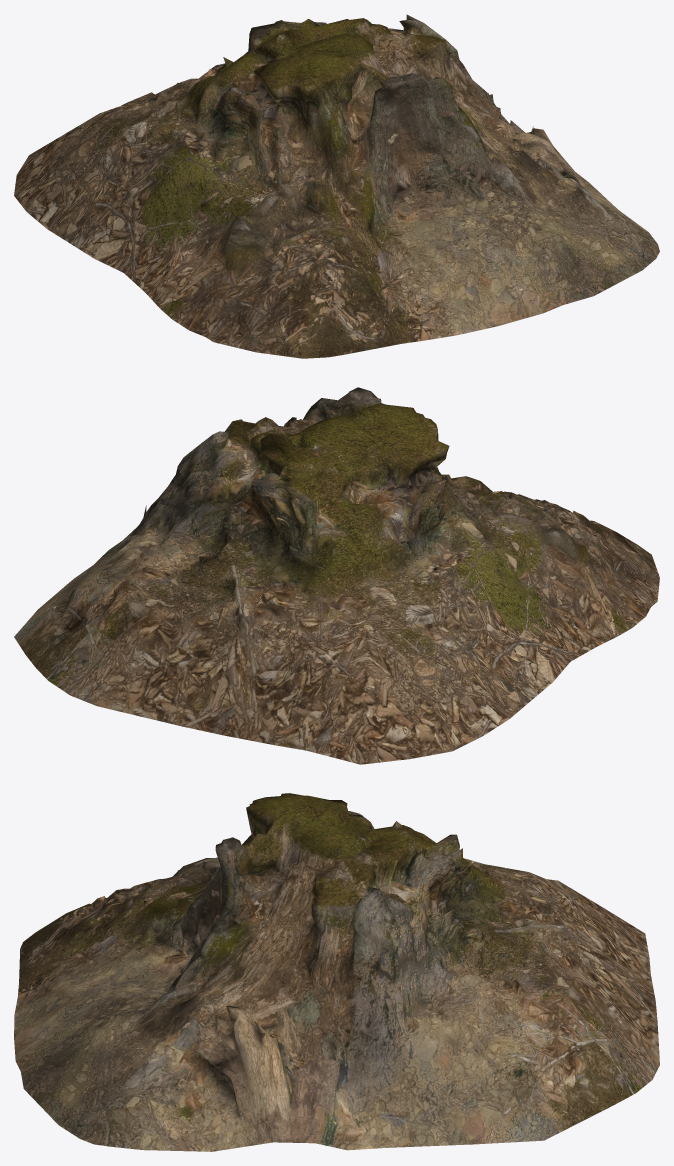
File: tree_stump_01_1k.gltf
3 views of the same model, one above another, from view 1: azimuth 30°, elevation 25°; view 2: azimuth 150°, elevation 25°; view 3: azimuth 270°, elevation 25° (orthographic). The views are drawn at different scales.
Visible parts, largest first — view 1: tree_stump_01; view 2: tree_stump_01; view 3: tree_stump_01.
Boxes of the visible parts, left/top/right/bottom form: tree_stump_01: left=14, top=14, right=659, bottom=358; tree_stump_01: left=14, top=387, right=659, bottom=764; tree_stump_01: left=14, top=793, right=659, bottom=1151.
Bounding box in the file's own units: 1.43 × 0.571 × 1.59.
Materials: 1 (1 with a texture image).
